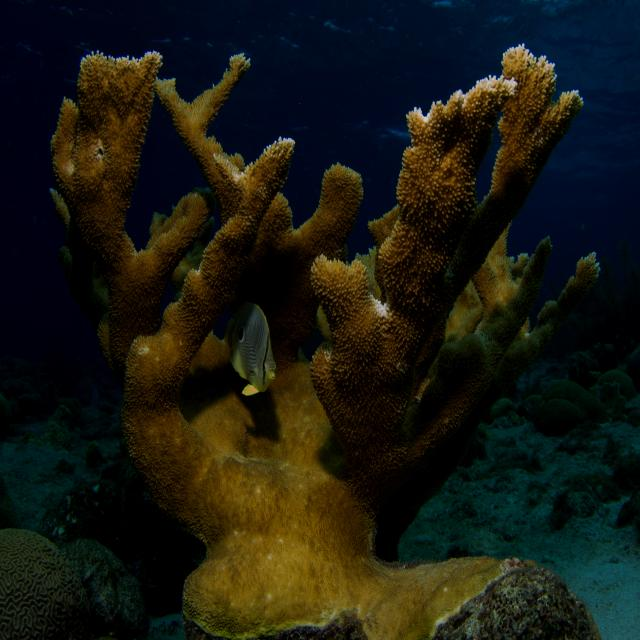Coral: (47, 42, 602, 640), (0, 519, 92, 640)
